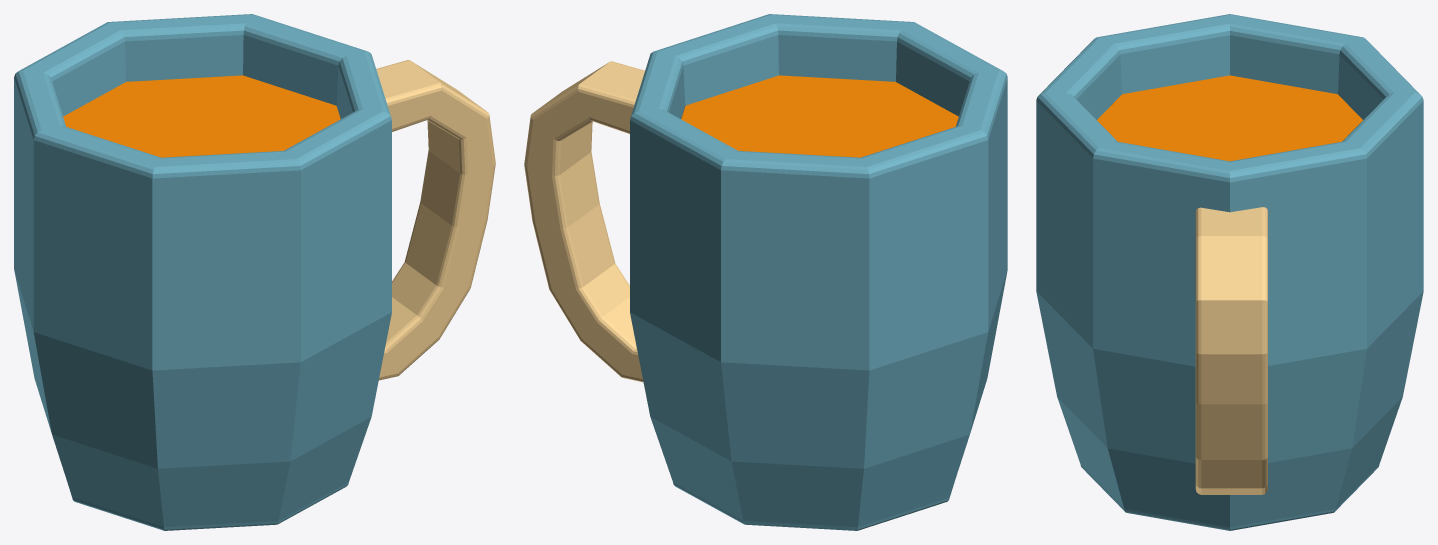
The model's file is Cup (filled).fbx.
3 views of the same model, side by side, from view 1: azimuth 30°, elevation 25°; view 2: azimuth 150°, elevation 25°; view 3: azimuth 270°, elevation 25° (orthographic).
Parts seen in each view (by area): view 1: CupFilled; view 2: CupFilled; view 3: CupFilled.
Part boxes in pixels (x1=…): CupFilled: x1=14, y1=14, x2=495, y2=530; CupFilled: x1=524, y1=14, x2=1007, y2=530; CupFilled: x1=1036, y1=14, x2=1423, y2=530.
Bounding box in the file's own units: 39.57 × 32.16 × 30.
